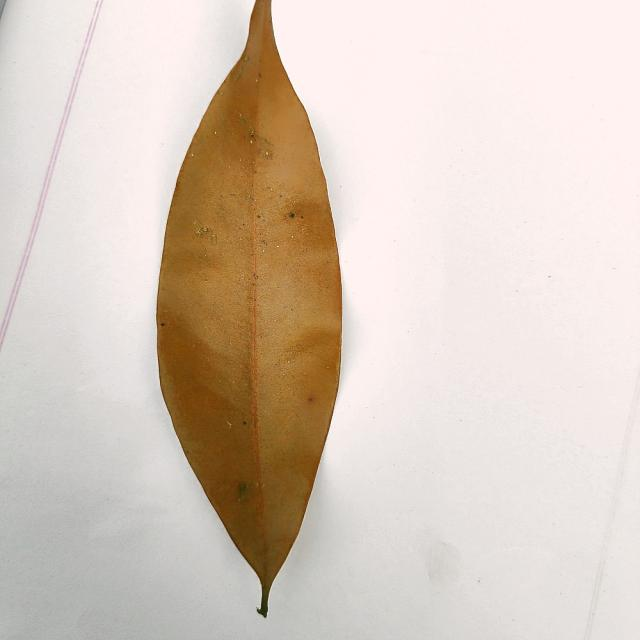Dry_Leaf-Lychee: (156, 0, 344, 616)
